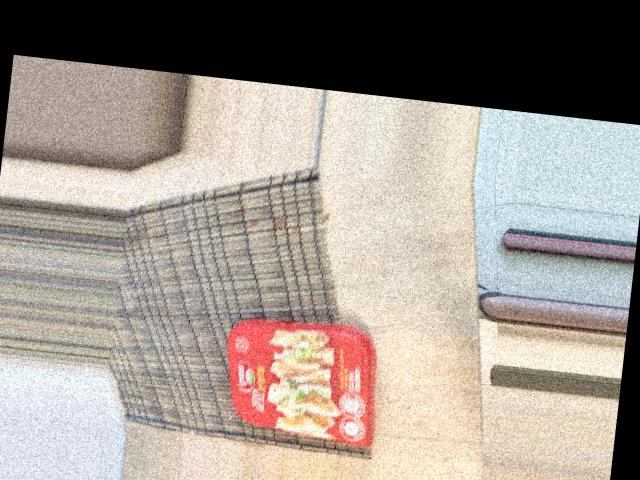cheese: (264, 149, 412, 345)
